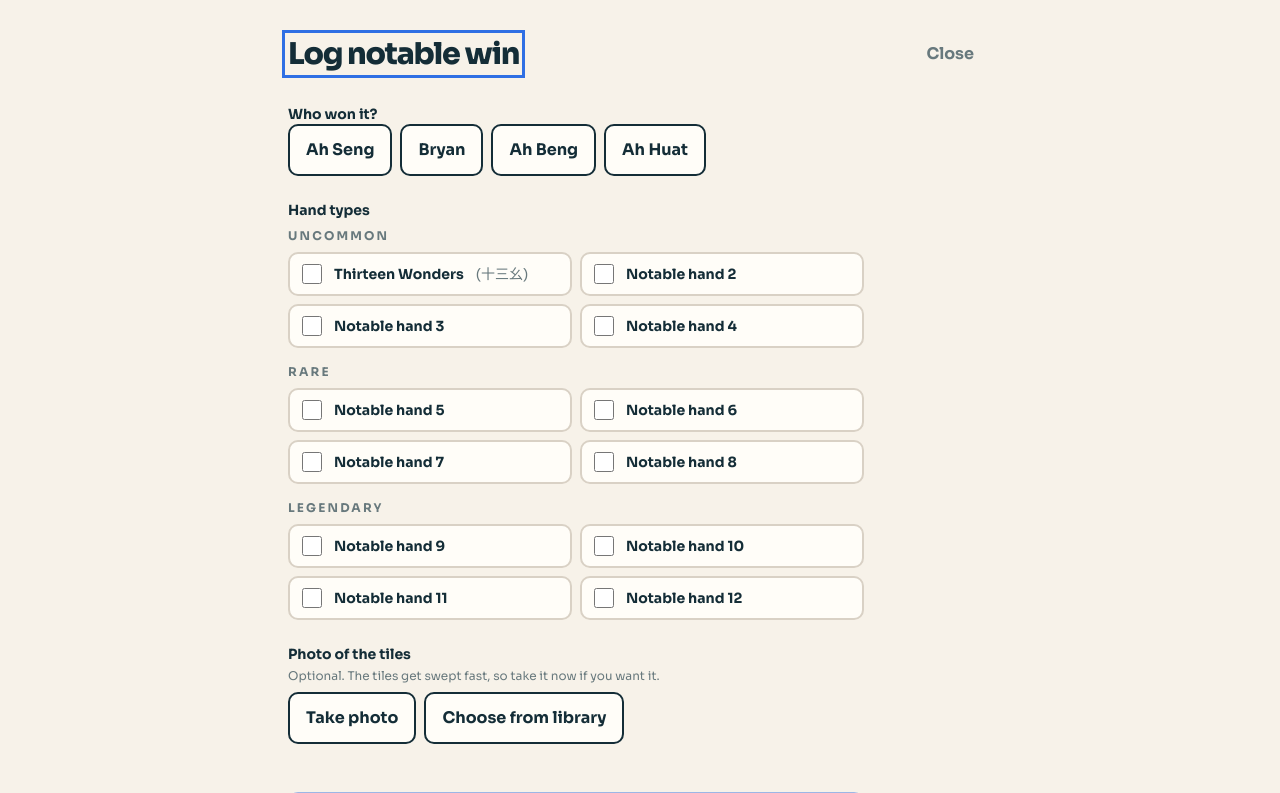
Test: NotableLogger photo capture › offers no escape when the request throws with no photo attached
The image size is (1280, 793).
Click the button "Bryan". click: (442,150)
box: [400,124,483,176]
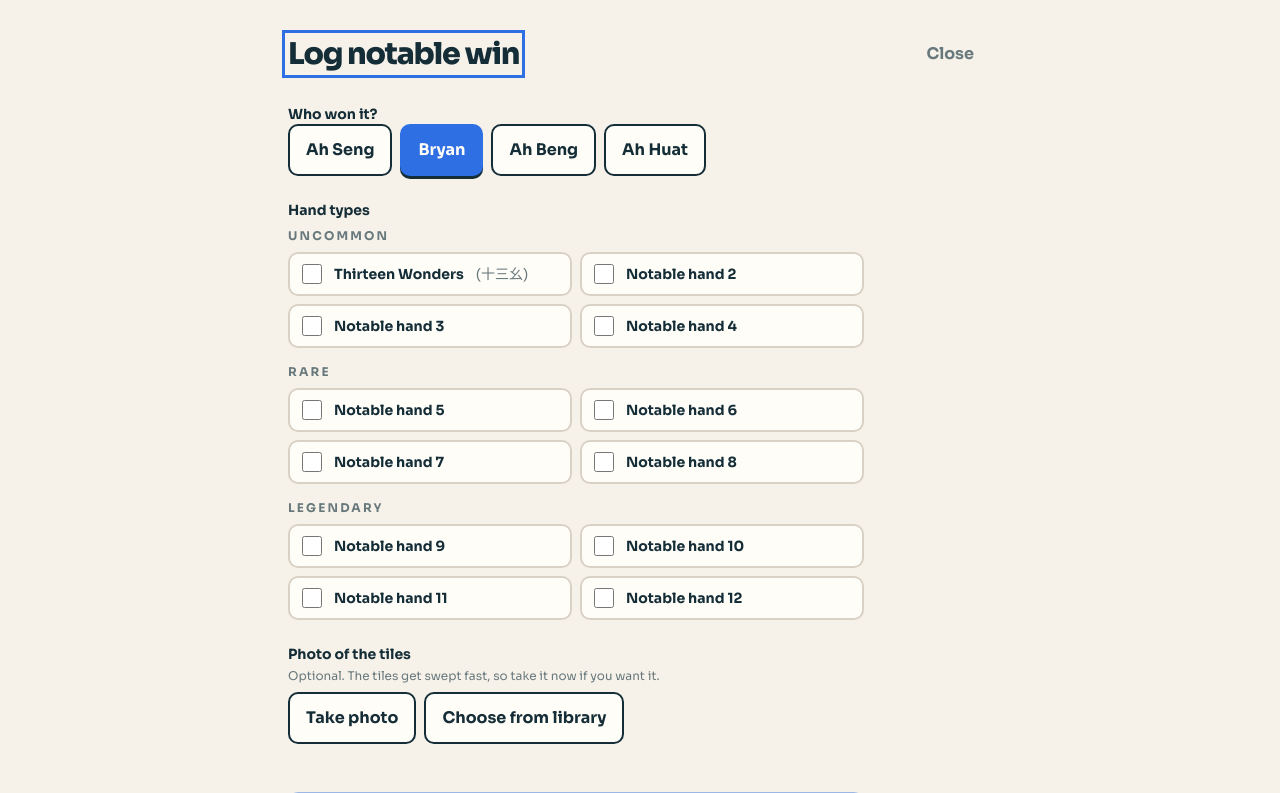
Click the checkbox labelled "Thirteen Wonders". click: (312,274)
box: [302,264,322,284]
(page scrolled)
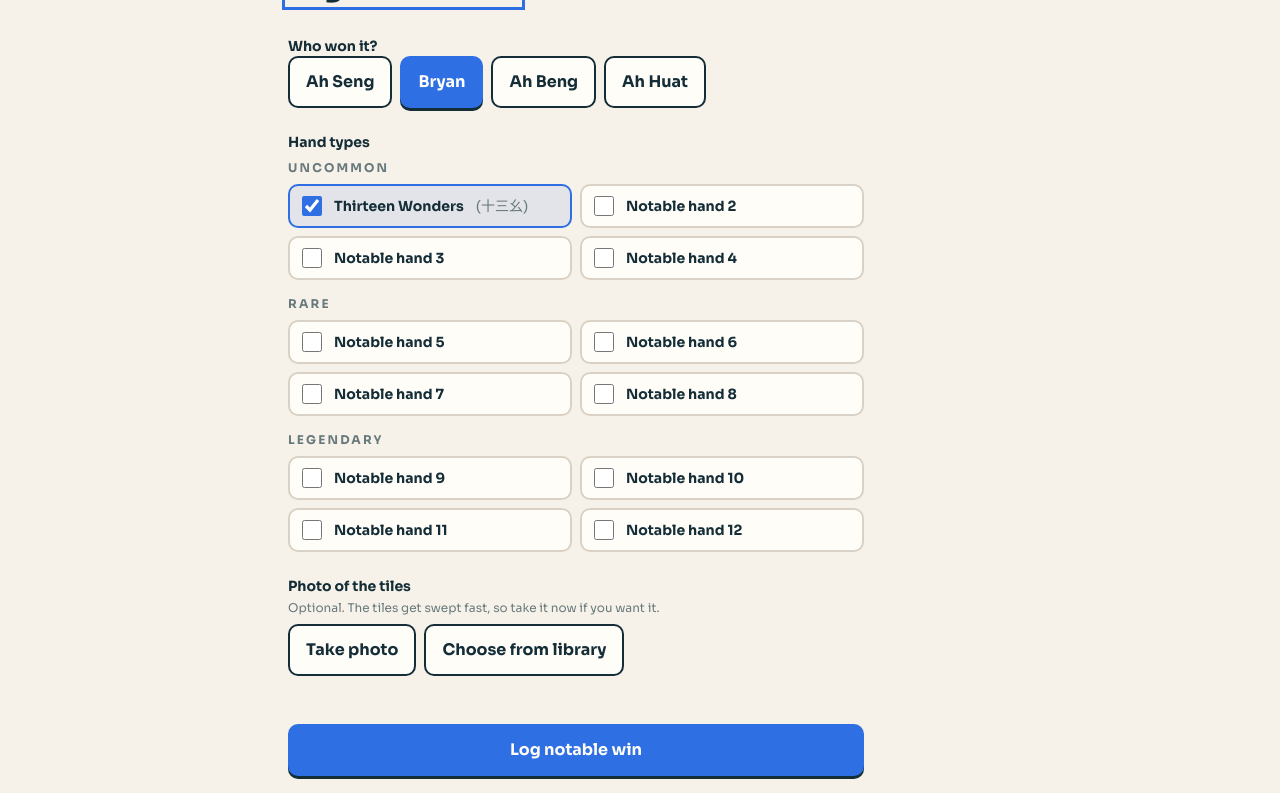
Click the button "Log notable win". click: (576,750)
box: [288,724,864,776]
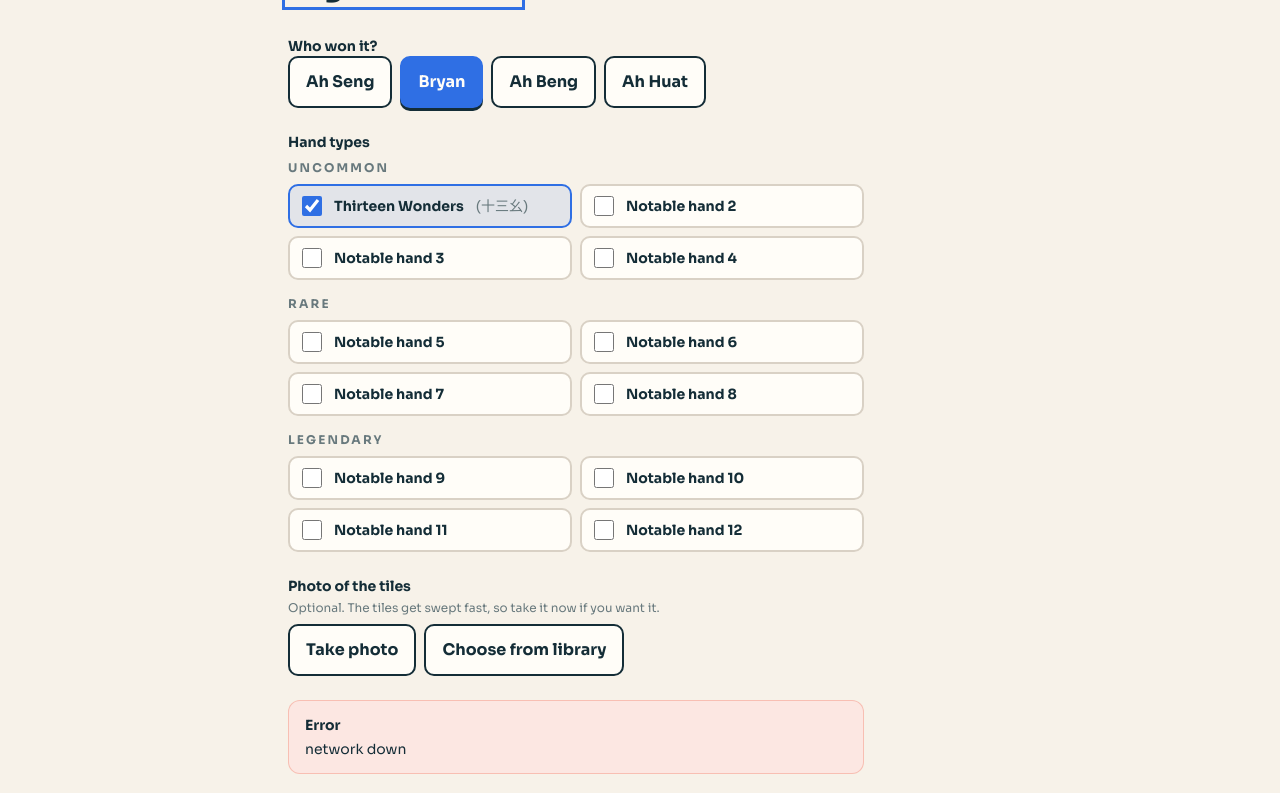
expect the message shows "network down": met, box [305,740,406,758]
